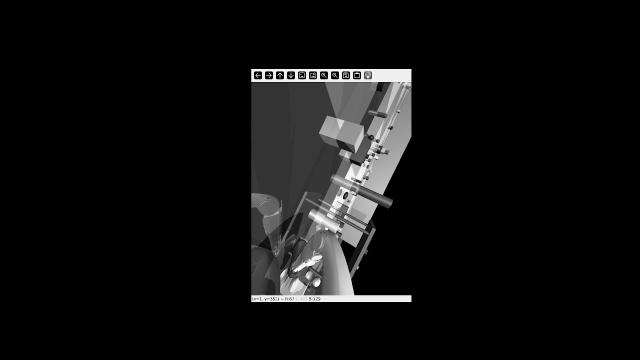cilindro: (331, 168, 394, 214), (307, 206, 341, 237), (376, 79, 390, 96), (378, 107, 387, 120), (351, 175, 362, 184), (404, 81, 412, 91), (372, 145, 380, 151), (366, 157, 372, 162), (370, 151, 374, 158)
cuadrado: (334, 117, 364, 153), (279, 270, 310, 296), (342, 203, 350, 216), (380, 147, 385, 154), (374, 154, 379, 161), (385, 148, 390, 154), (399, 108, 402, 115)
esfera: (287, 278, 301, 292), (339, 190, 350, 202), (311, 277, 323, 288), (368, 133, 373, 140), (365, 175, 371, 180), (376, 138, 379, 143), (369, 170, 372, 174)
